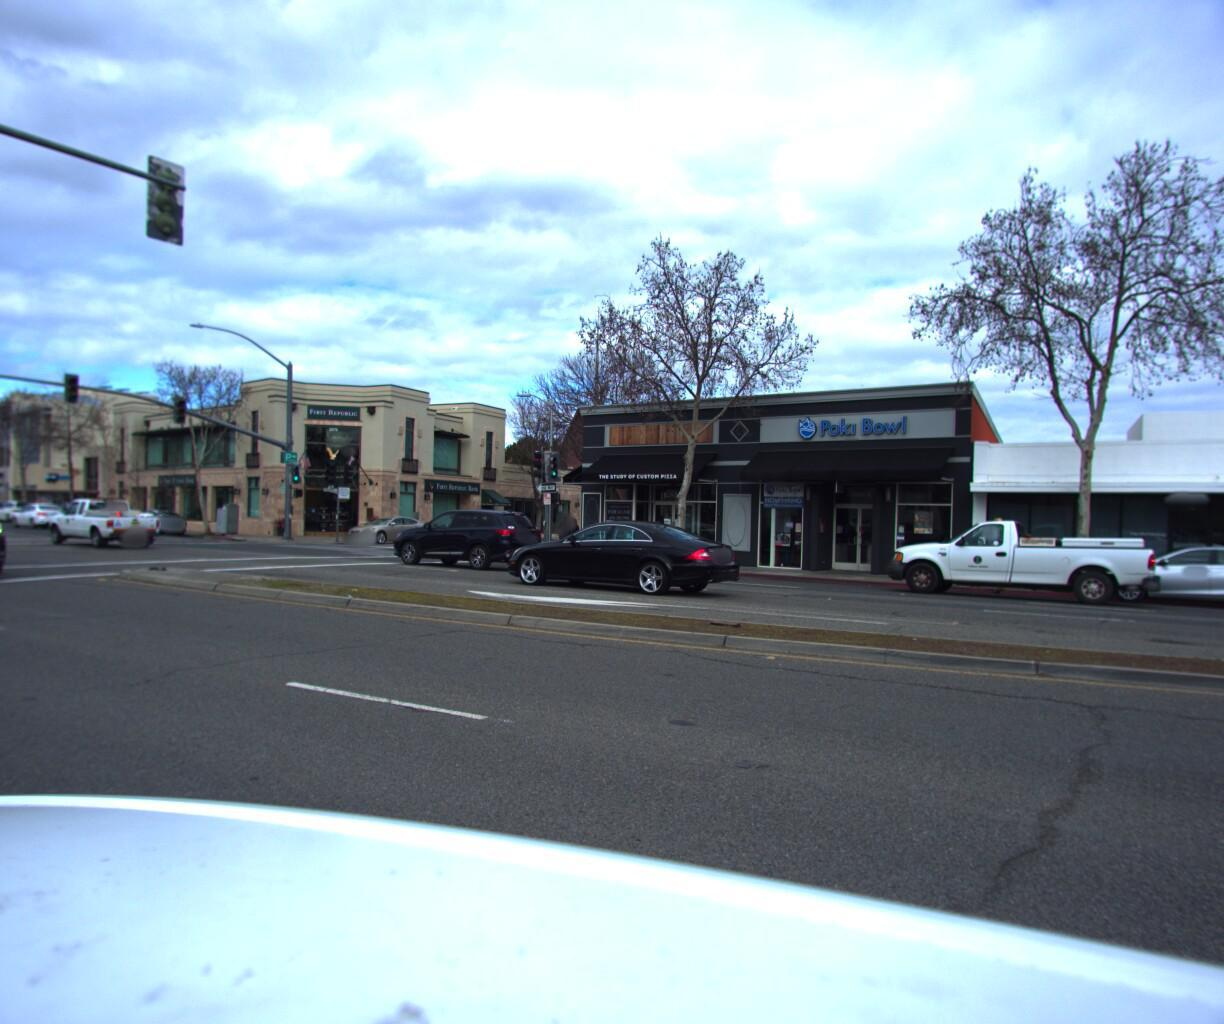car: (888, 513, 1183, 612), (500, 517, 758, 602), (1070, 537, 1224, 619), (378, 502, 551, 568), (37, 491, 168, 546), (328, 510, 435, 544), (0, 478, 30, 595), (114, 505, 187, 534), (7, 499, 69, 527), (0, 496, 39, 521)
